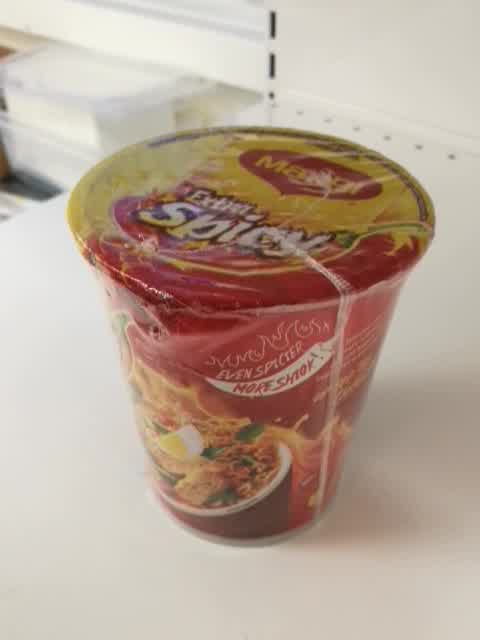maggi: (68, 124, 437, 551)
